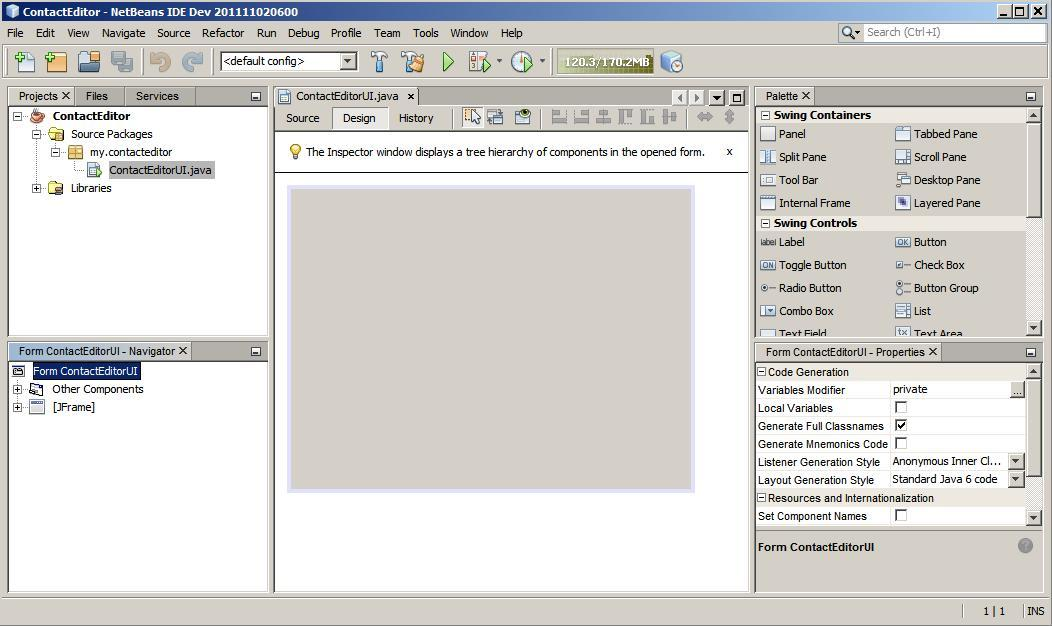button: (391, 107, 455, 132), (126, 88, 198, 107), (9, 88, 76, 108), (336, 109, 390, 133), (276, 109, 334, 131), (756, 86, 815, 105), (77, 88, 127, 108)
checkbox: (896, 420, 910, 436), (896, 401, 908, 416), (897, 437, 908, 452), (897, 510, 907, 522)
dropdown: (838, 26, 864, 42), (341, 54, 358, 72)
input: (864, 26, 1046, 42), (223, 53, 343, 72)
label: (759, 420, 886, 434), (760, 510, 871, 525), (759, 456, 882, 469), (758, 474, 876, 487), (758, 439, 890, 450), (757, 384, 849, 397), (758, 402, 836, 415)
